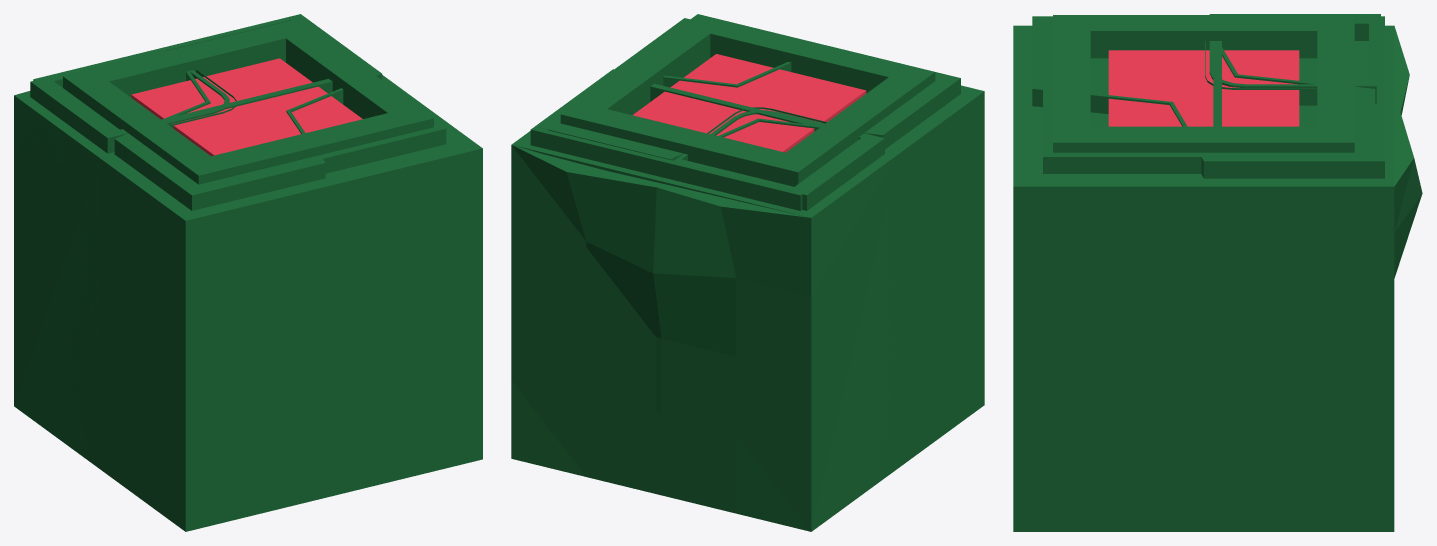
The model's file is dual_grid_tiles.glb.
3 renders of one model, left to right at view 1: azimuth 30°, elevation 25°; view 2: azimuth 150°, elevation 25°; view 3: azimuth 270°, elevation 25°, orthographic. The views are drawn at different scales.
Parts seen in each view (by area): view 1: t, full, diagonal, corner, edge, debug; view 2: full, edge, t, corner, debug, diagonal; view 3: t, full, diagonal, edge, debug, corner.
Part boxes in pixels (box(x1,y1,x2,y2)): t: box(100, 69, 482, 531); full: box(14, 19, 482, 531); diagonal: box(114, 17, 382, 530); corner: box(14, 49, 229, 462); edge: box(14, 14, 376, 459); debug: box(131, 58, 362, 156); full: box(511, 14, 984, 530); edge: box(511, 72, 897, 531); t: box(511, 79, 984, 468); corner: box(661, 110, 897, 531); debug: box(633, 54, 866, 152); diagonal: box(535, 62, 960, 160); t: box(1013, 20, 1394, 531); full: box(1013, 15, 1394, 531); diagonal: box(1032, 16, 1394, 531); edge: box(1204, 16, 1422, 531); debug: box(1108, 50, 1299, 126); corner: box(1209, 14, 1380, 105).
Bounding box in the file's own units: 2 × 2.16 × 2.15.
